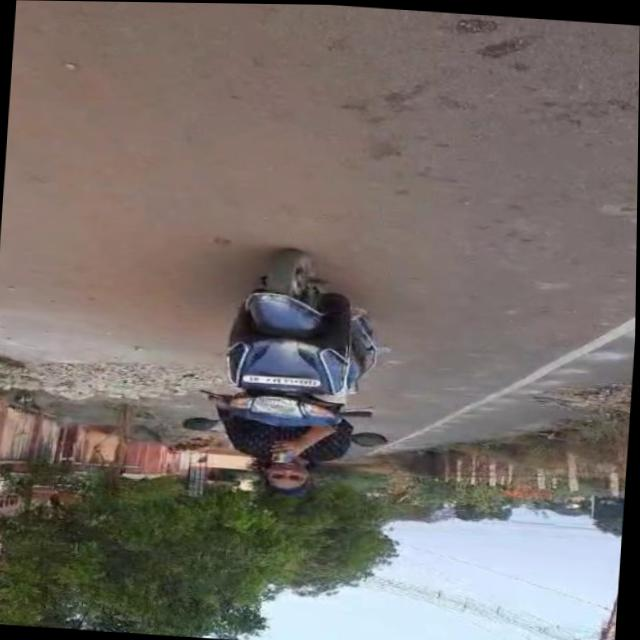USING_MOBILE: (257, 423, 342, 505)
